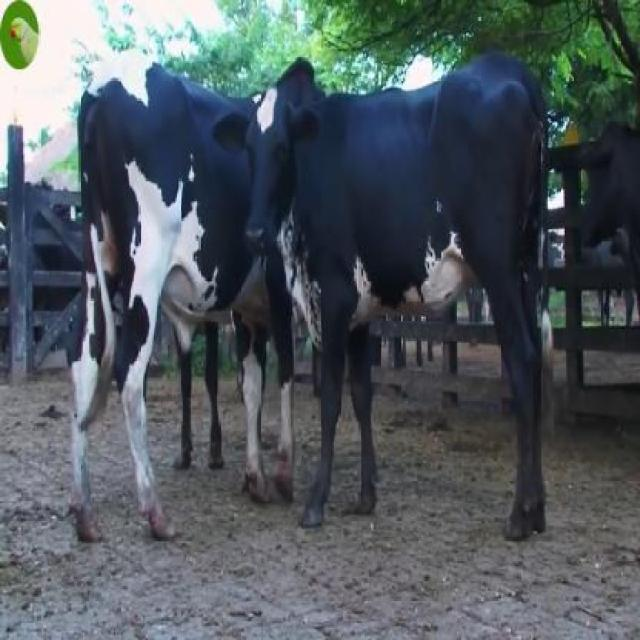Cow: (212, 52, 545, 557)
